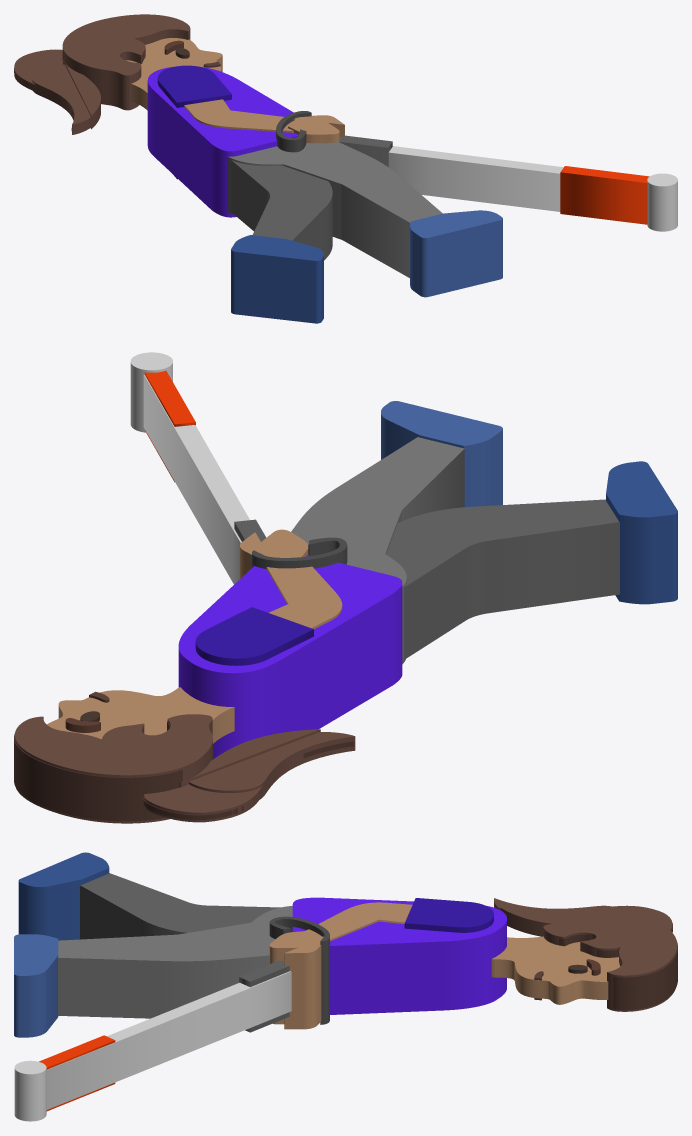
File: emoji_u1f469_1f3fd_200d_1f9af_200d_27a1.glb
3 renders of one model, top to bottom at view 1: azimuth 30°, elevation 25°; view 2: azimuth 150°, elevation 25°; view 3: azimuth 270°, elevation 25°, orthographic. The views are drawn at different scales.
Parts seen in each view (by area): view 1: emoji_u1f469_1f3fd_200d_1f9af_200d_27a1; view 2: emoji_u1f469_1f3fd_200d_1f9af_200d_27a1; view 3: emoji_u1f469_1f3fd_200d_1f9af_200d_27a1.
Part boxes in pixels (bbox=[...]): emoji_u1f469_1f3fd_200d_1f9af_200d_27a1: bbox=[14, 14, 677, 323]; emoji_u1f469_1f3fd_200d_1f9af_200d_27a1: bbox=[14, 352, 677, 823]; emoji_u1f469_1f3fd_200d_1f9af_200d_27a1: bbox=[14, 852, 677, 1121].
Size of the model in its own units: 0.0251 by 0.0046 by 0.0332.
